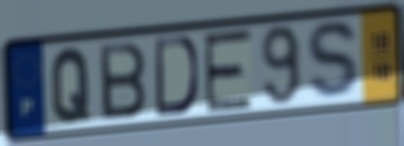9: (259, 22, 304, 108)
B: (96, 39, 149, 123)
D: (153, 34, 201, 119)
E: (201, 26, 254, 116)
Q: (49, 45, 92, 126)
S: (304, 18, 365, 103)
